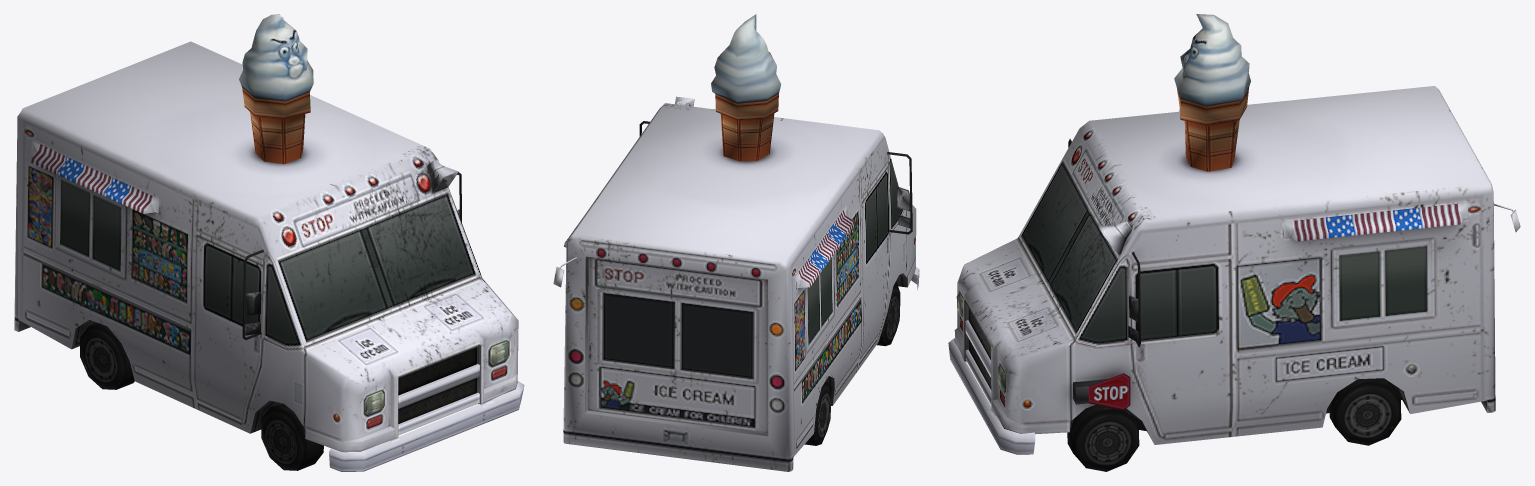
File: ice_cream_truck.glb
3 renders of one model, left to right at view 1: azimuth 30°, elevation 25°; view 2: azimuth 150°, elevation 25°; view 3: azimuth 270°, elevation 25°, orthographic. The views are drawn at different scales.
Visible parts, largest first — view 1: Body, IceCream_Truck_Wheel_Front_R, IceCream_Truck_Wheel_Rear_R; view 2: Body, IceCream_Truck_Wheel_Rear_R, IceCream_Truck_Wheel_Front_R; view 3: Body, IceCream_Truck_Wheel_Rear_L, IceCream_Truck_Wheel_Front_L.
Part boxes in pixels (x1,y1,x2,y2): Body: (14,14,524,471); IceCream_Truck_Wheel_Front_R: (261,404,323,470); IceCream_Truck_Wheel_Rear_R: (80,322,134,389); Body: (553,14,919,471); IceCream_Truck_Wheel_Rear_R: (804,381,830,445); IceCream_Truck_Wheel_Front_R: (877,282,900,346); Body: (948,14,1520,454); IceCream_Truck_Wheel_Rear_L: (1329,378,1401,445); IceCream_Truck_Wheel_Front_L: (1067,405,1139,471).
Bounding box in the file's own units: 6.51 × 7.74 × 10.21.
Materials: 2 (2 with a texture image).
